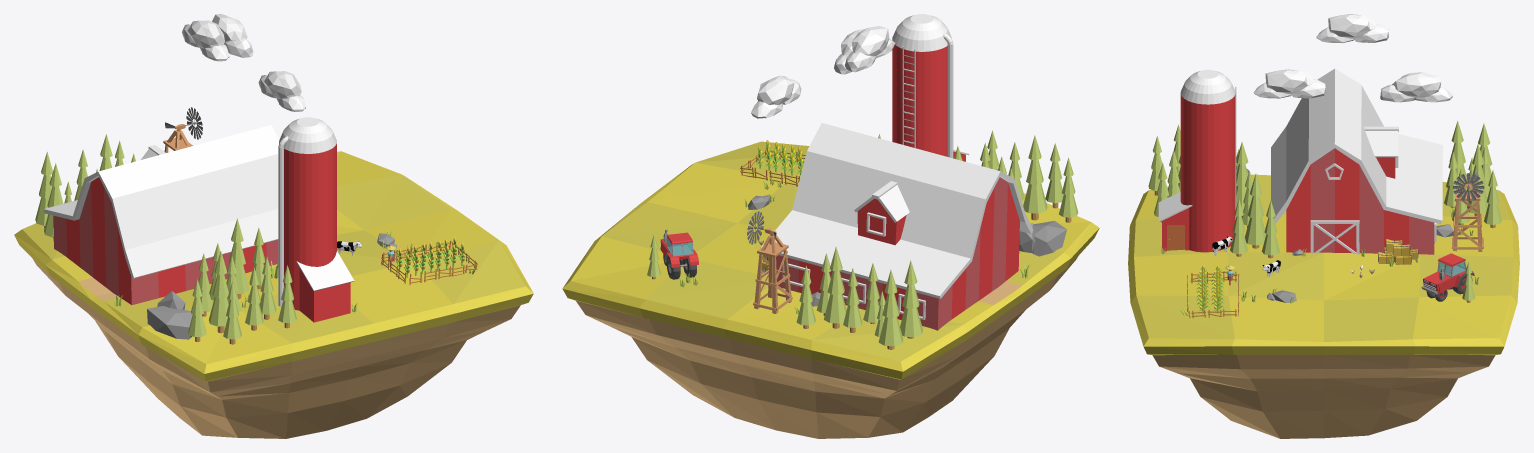
The model's file is Farm.gltf.
The picture shows the model from 3 angles, left to right: view 1: azimuth 30°, elevation 25°; view 2: azimuth 150°, elevation 25°; view 3: azimuth 270°, elevation 25°; orthographic projection. The views are drawn at different scales.
Parts seen in each view (by area): view 1: Low_Poly_Farm_By_Edwin3D3ds; view 2: Low_Poly_Farm_By_Edwin3D3ds; view 3: Low_Poly_Farm_By_Edwin3D3ds.
Boxes of the visible parts, left/top/right/bottom form: Low_Poly_Farm_By_Edwin3D3ds: left=14, top=14, right=533, bottom=438; Low_Poly_Farm_By_Edwin3D3ds: left=562, top=14, right=1099, bottom=438; Low_Poly_Farm_By_Edwin3D3ds: left=1128, top=14, right=1519, bottom=438.
Size of the model in its own units: 61.51 by 61.77 by 59.78.
